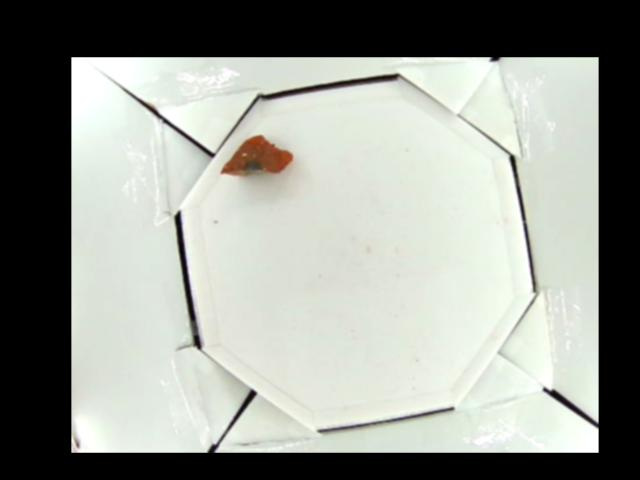Brisk: (218, 134, 294, 178)
